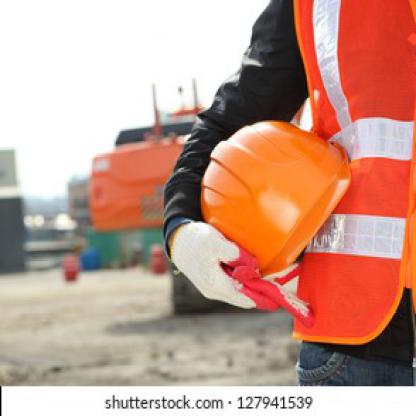with_gloves: (167, 218, 311, 321)
